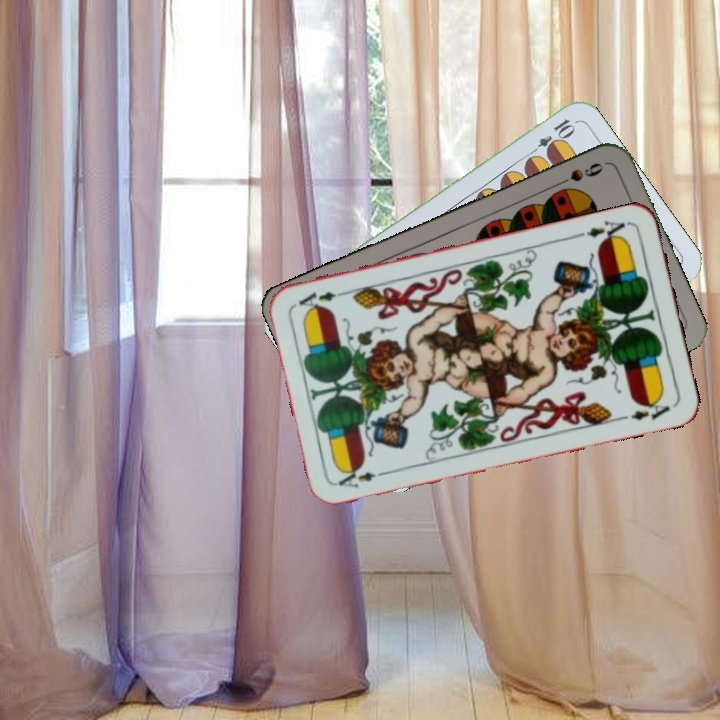E10: (525, 114, 577, 160)
EA: (573, 216, 632, 246), (334, 465, 392, 491)
S9: (550, 158, 606, 190)
